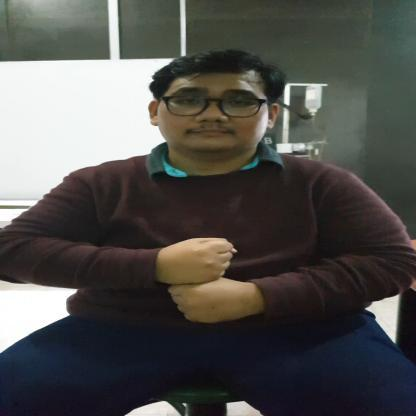G: (154, 235, 264, 324)
